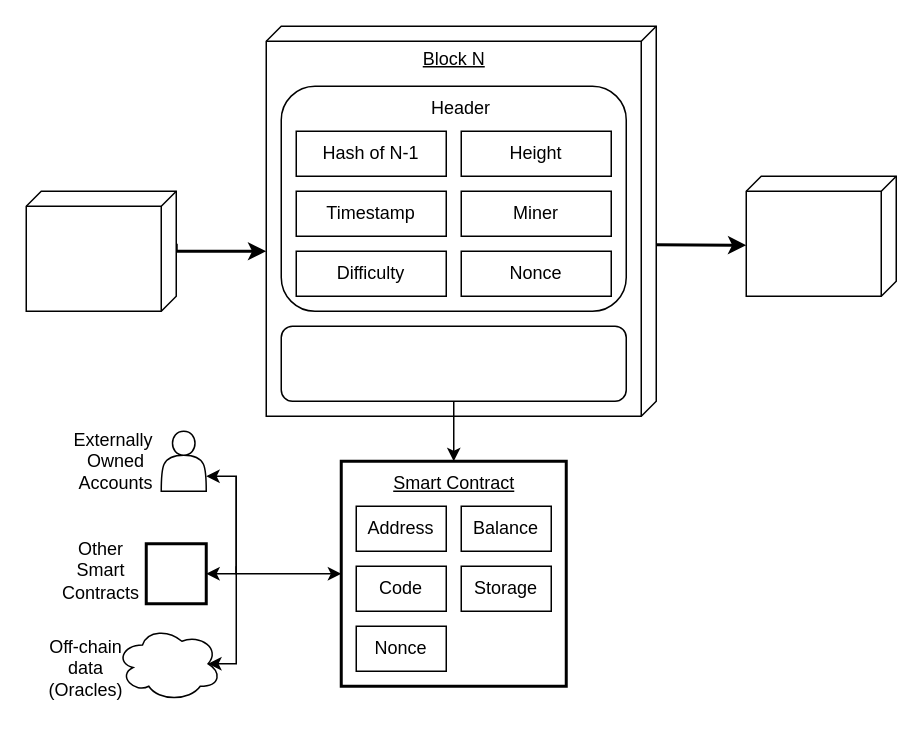
Some shapes in this 923 by 735 pixel diagram are drawn without their labels. Here are the shapes that lost their labels. From the top down, the box of each, then its label:
(25, 190, 176, 311): Block N -1
(745, 175, 896, 296): Block N + 1
(280, 325, 626, 401): Transactions
